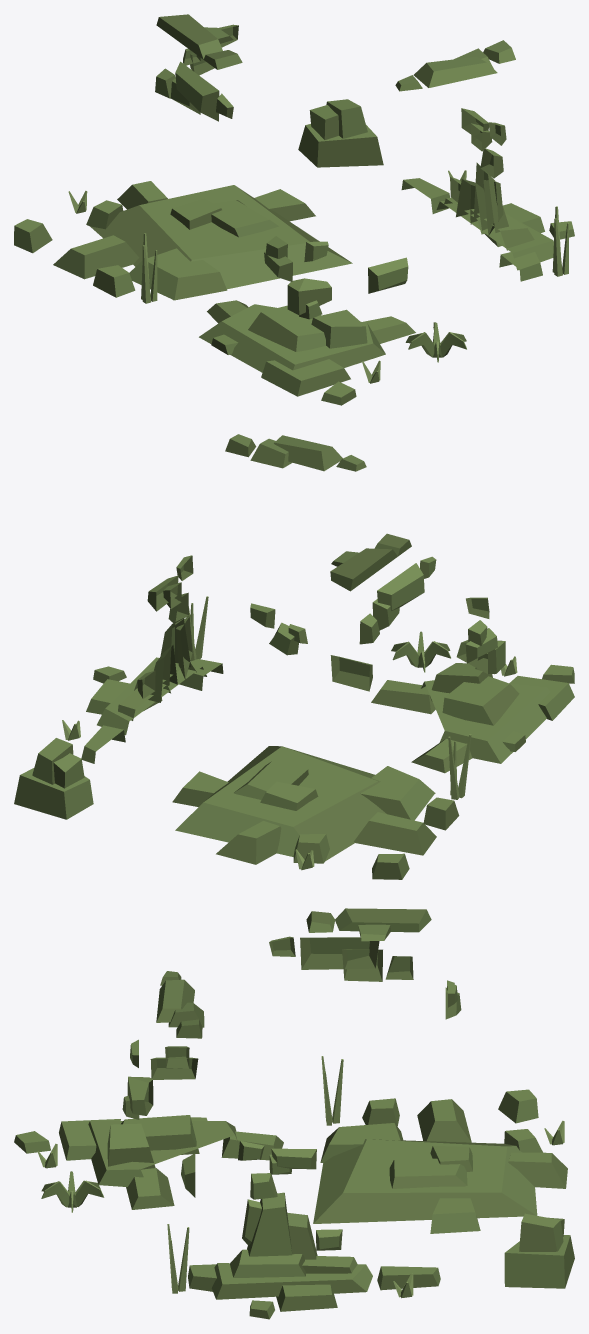
File: SA_Bld_ShopSmall_Growth_01.gltf
3 views of the same model, one above another, from view 1: azimuth 30°, elevation 25°; view 2: azimuth 150°, elevation 25°; view 3: azimuth 270°, elevation 25° (orthographic). The views are drawn at different scales.
Parts seen in each view (by area): view 1: SA_Bld_ShopSmall_Growth_01; view 2: SA_Bld_ShopSmall_Growth_01; view 3: SA_Bld_ShopSmall_Growth_01.
Boxes of the visible parts, x1,y1,x2,y2 form: SA_Bld_ShopSmall_Growth_01: [14, 14, 574, 405]; SA_Bld_ShopSmall_Growth_01: [14, 434, 574, 879]; SA_Bld_ShopSmall_Growth_01: [14, 908, 574, 1319].
Size of the model in its own units: 17.38 by 9.42 by 19.1.
Materials: 1 (1 with a texture image).
